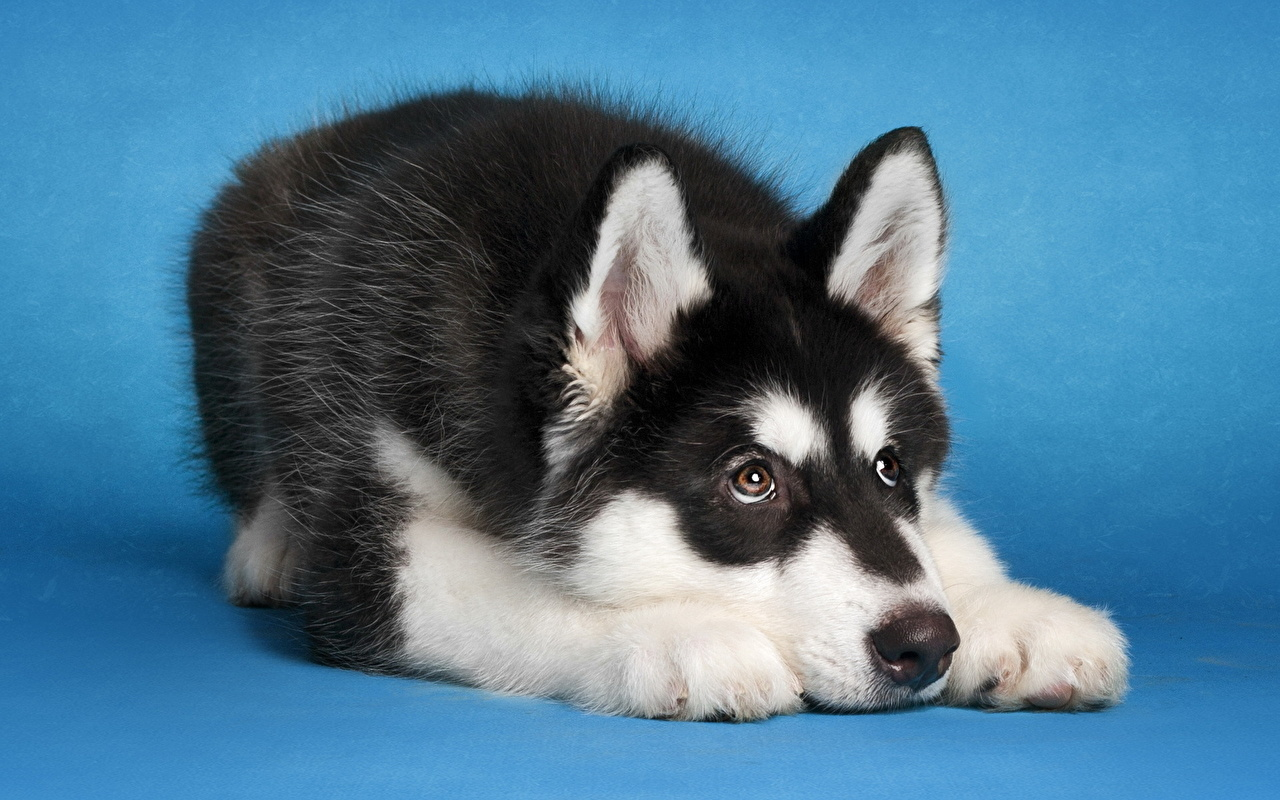husky: (145, 67, 1150, 721)
